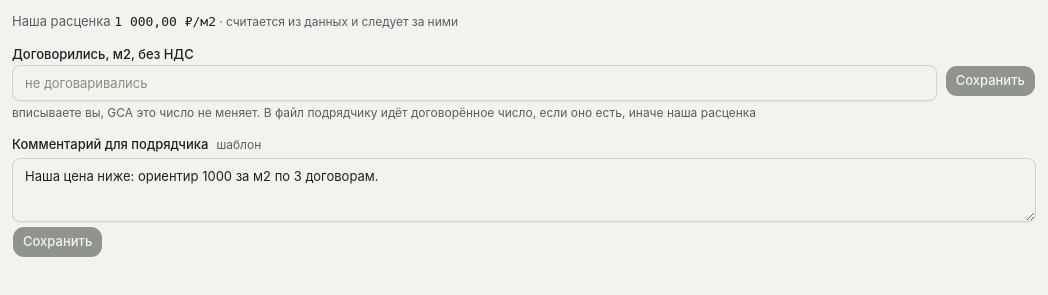
it: комментарий › отказ comment_too_long: текст сервера у поля, тоста нет
Type "!" into the text box labelled "Комментарий для подрядчика" at [524, 190], box [12,158,1036,222]
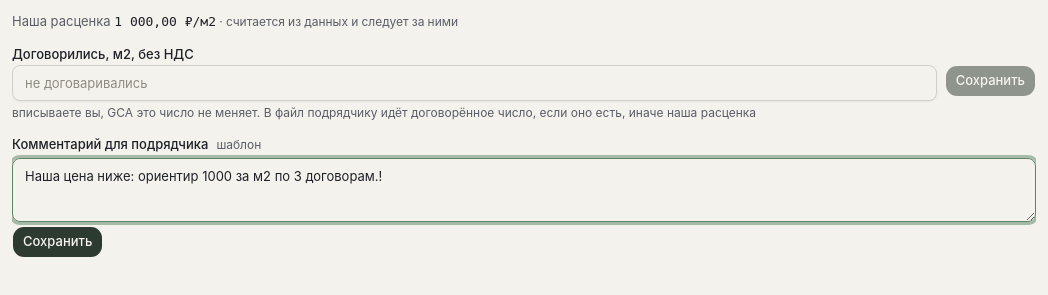
Click the button with test id "comment-save" at [58, 242], box [12,226,103,258]
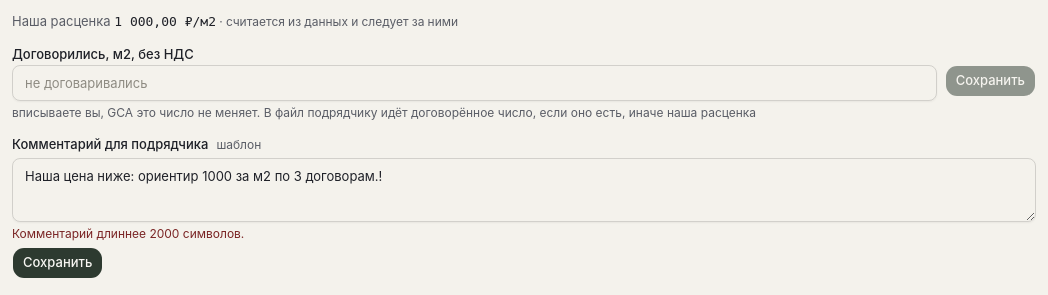
Expected: the message with test id "comment-error" reads "Комментарий длиннее 2000 символов.", [12,226,244,241]
